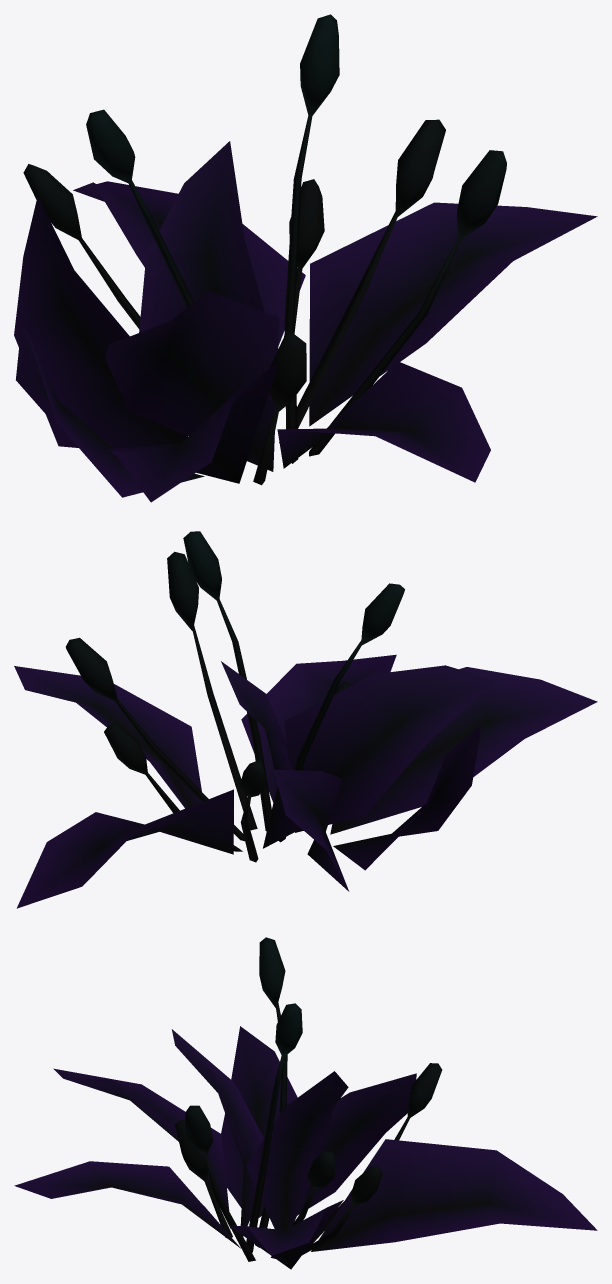
Rendered from TSI_Plant_05A.fbx.
3 views of the same model, one above another, from view 1: azimuth 30°, elevation 25°; view 2: azimuth 150°, elevation 25°; view 3: azimuth 270°, elevation 25° (orthographic). The views are drawn at different scales.
Parts seen in each view (by area): view 1: TSI_Plant_05A_LOD0; view 2: TSI_Plant_05A_LOD0; view 3: TSI_Plant_05A_LOD0.
Part boxes in pixels (x1,y1,x2,y2): TSI_Plant_05A_LOD0: [14, 14, 597, 502]; TSI_Plant_05A_LOD0: [14, 531, 597, 908]; TSI_Plant_05A_LOD0: [14, 937, 597, 1269].
Bounding box in the file's own units: 89.23 × 56.66 × 110.
